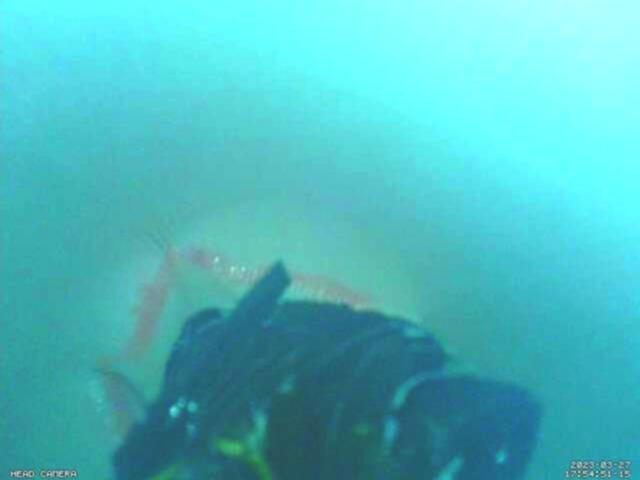head: (100, 243, 370, 364)
